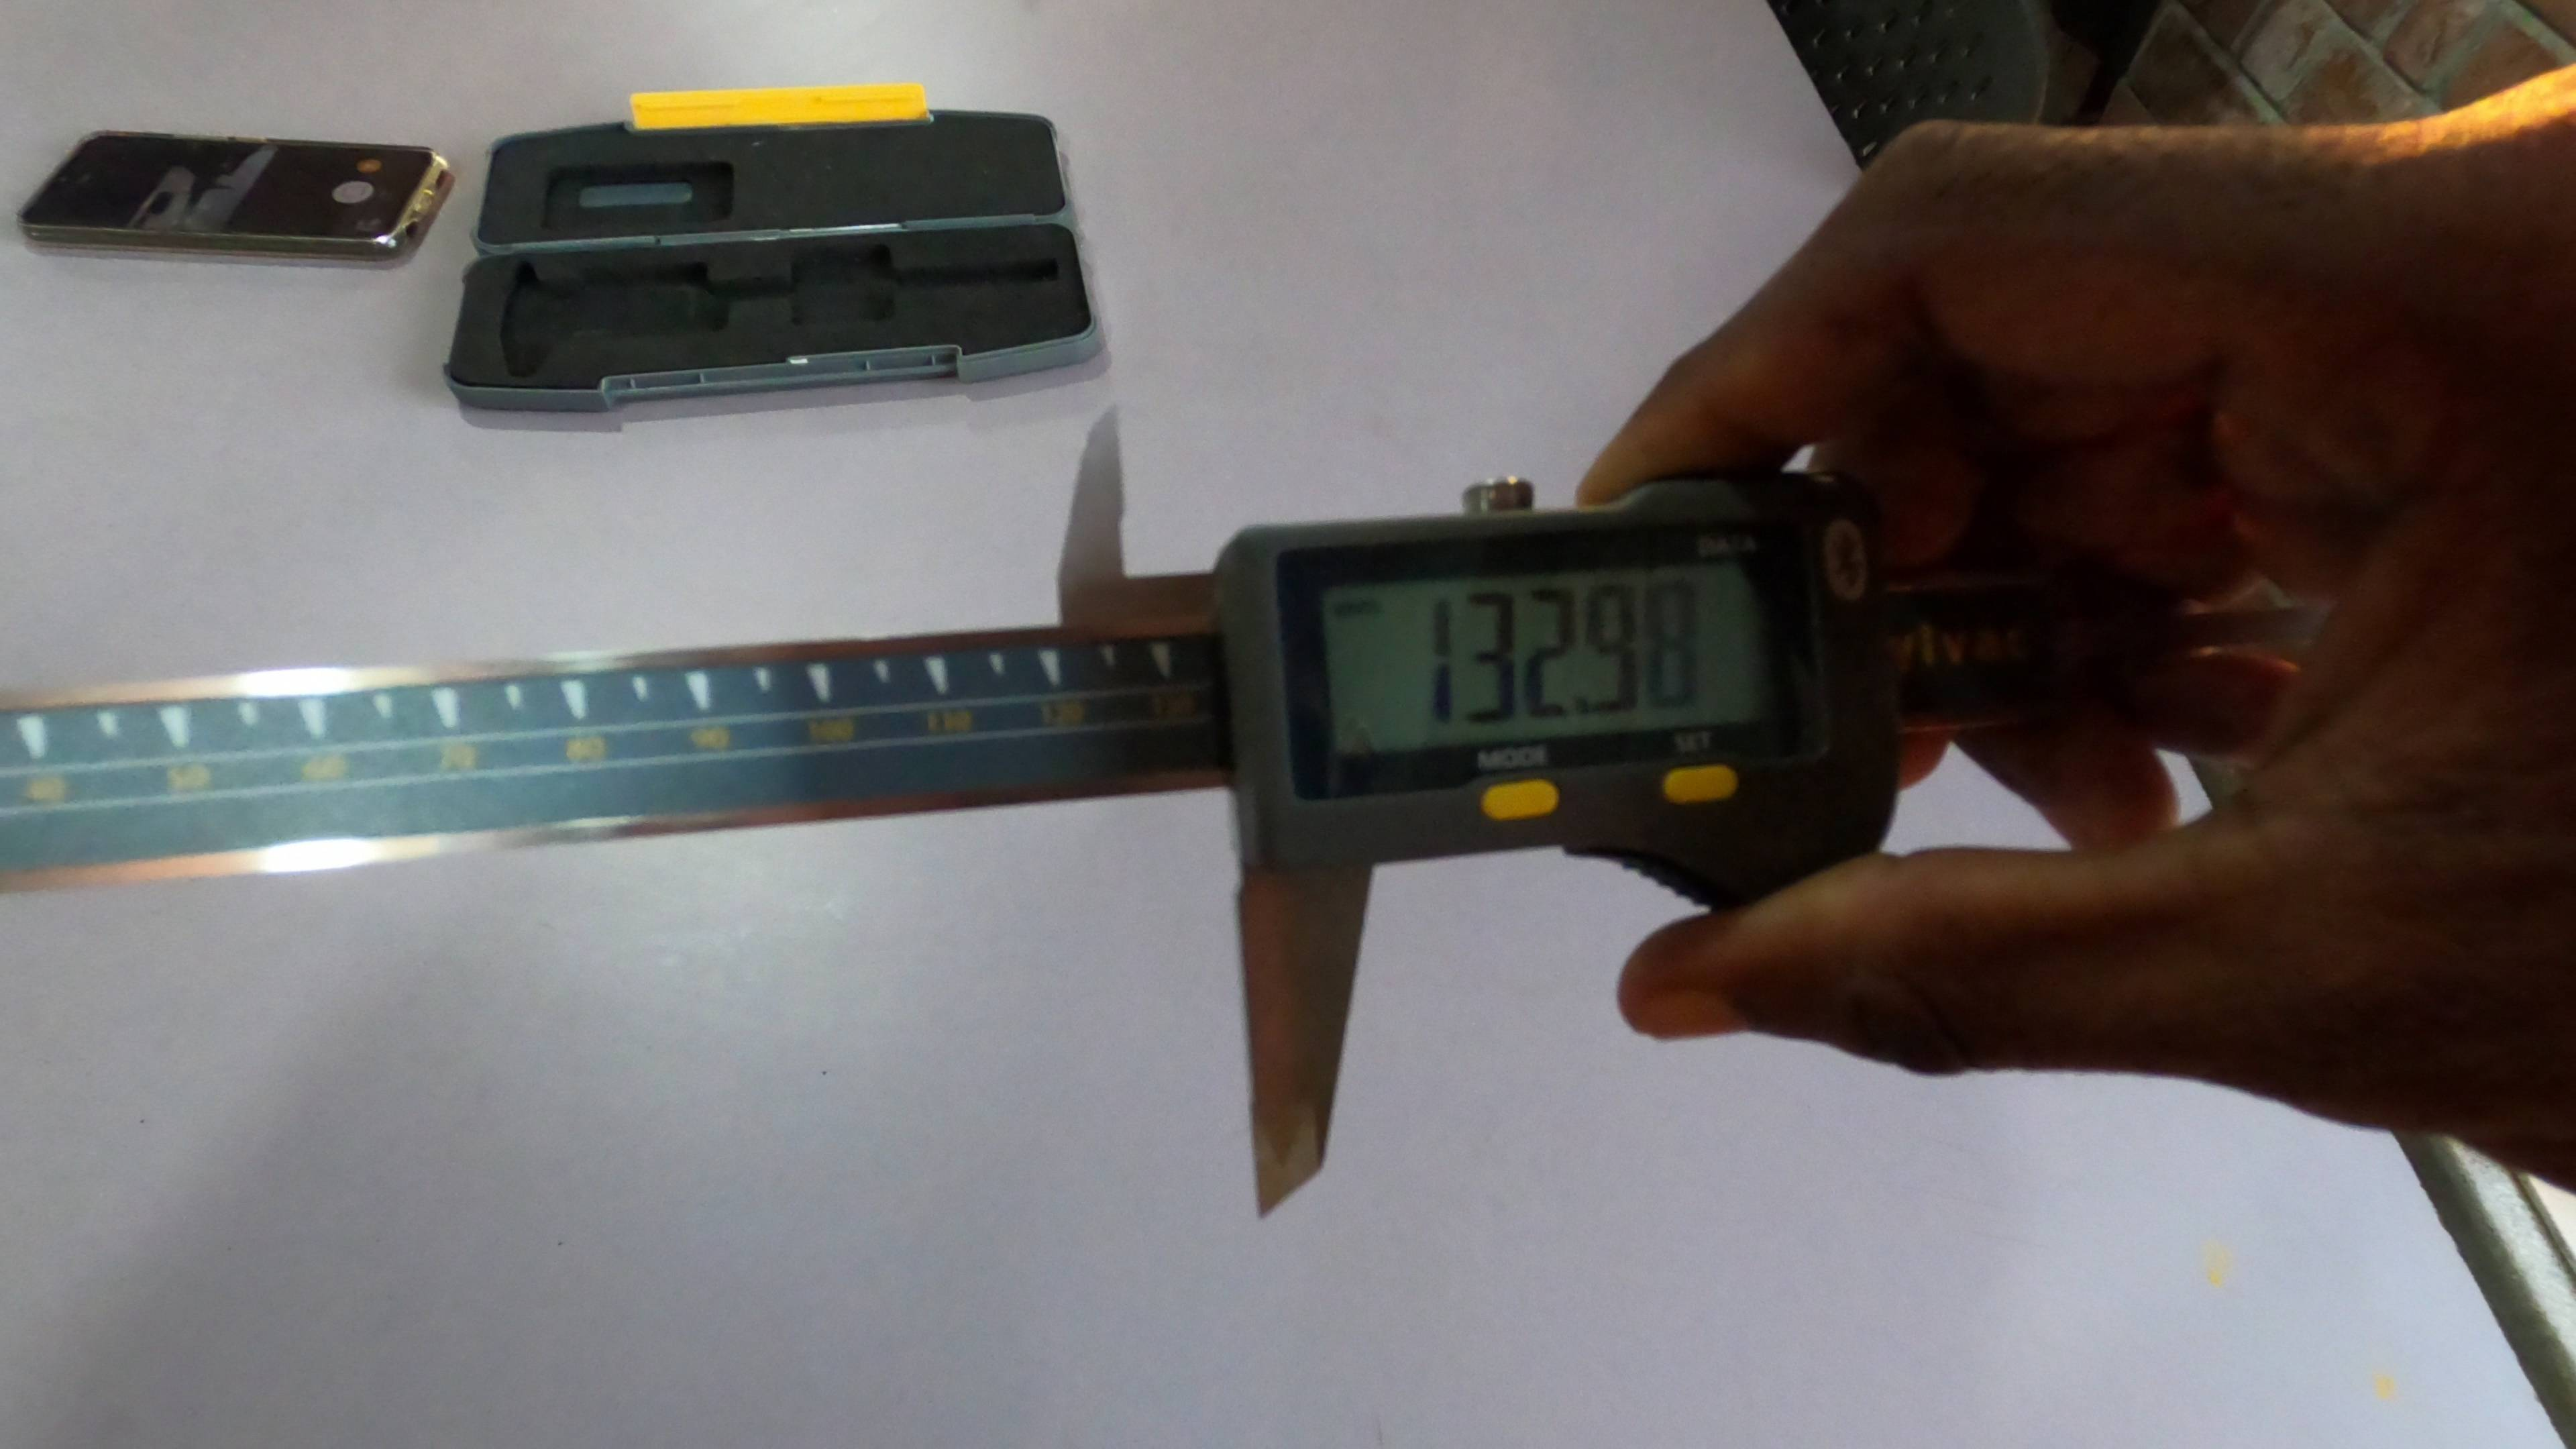vernier_caliper: (11, 384, 1978, 1224)
